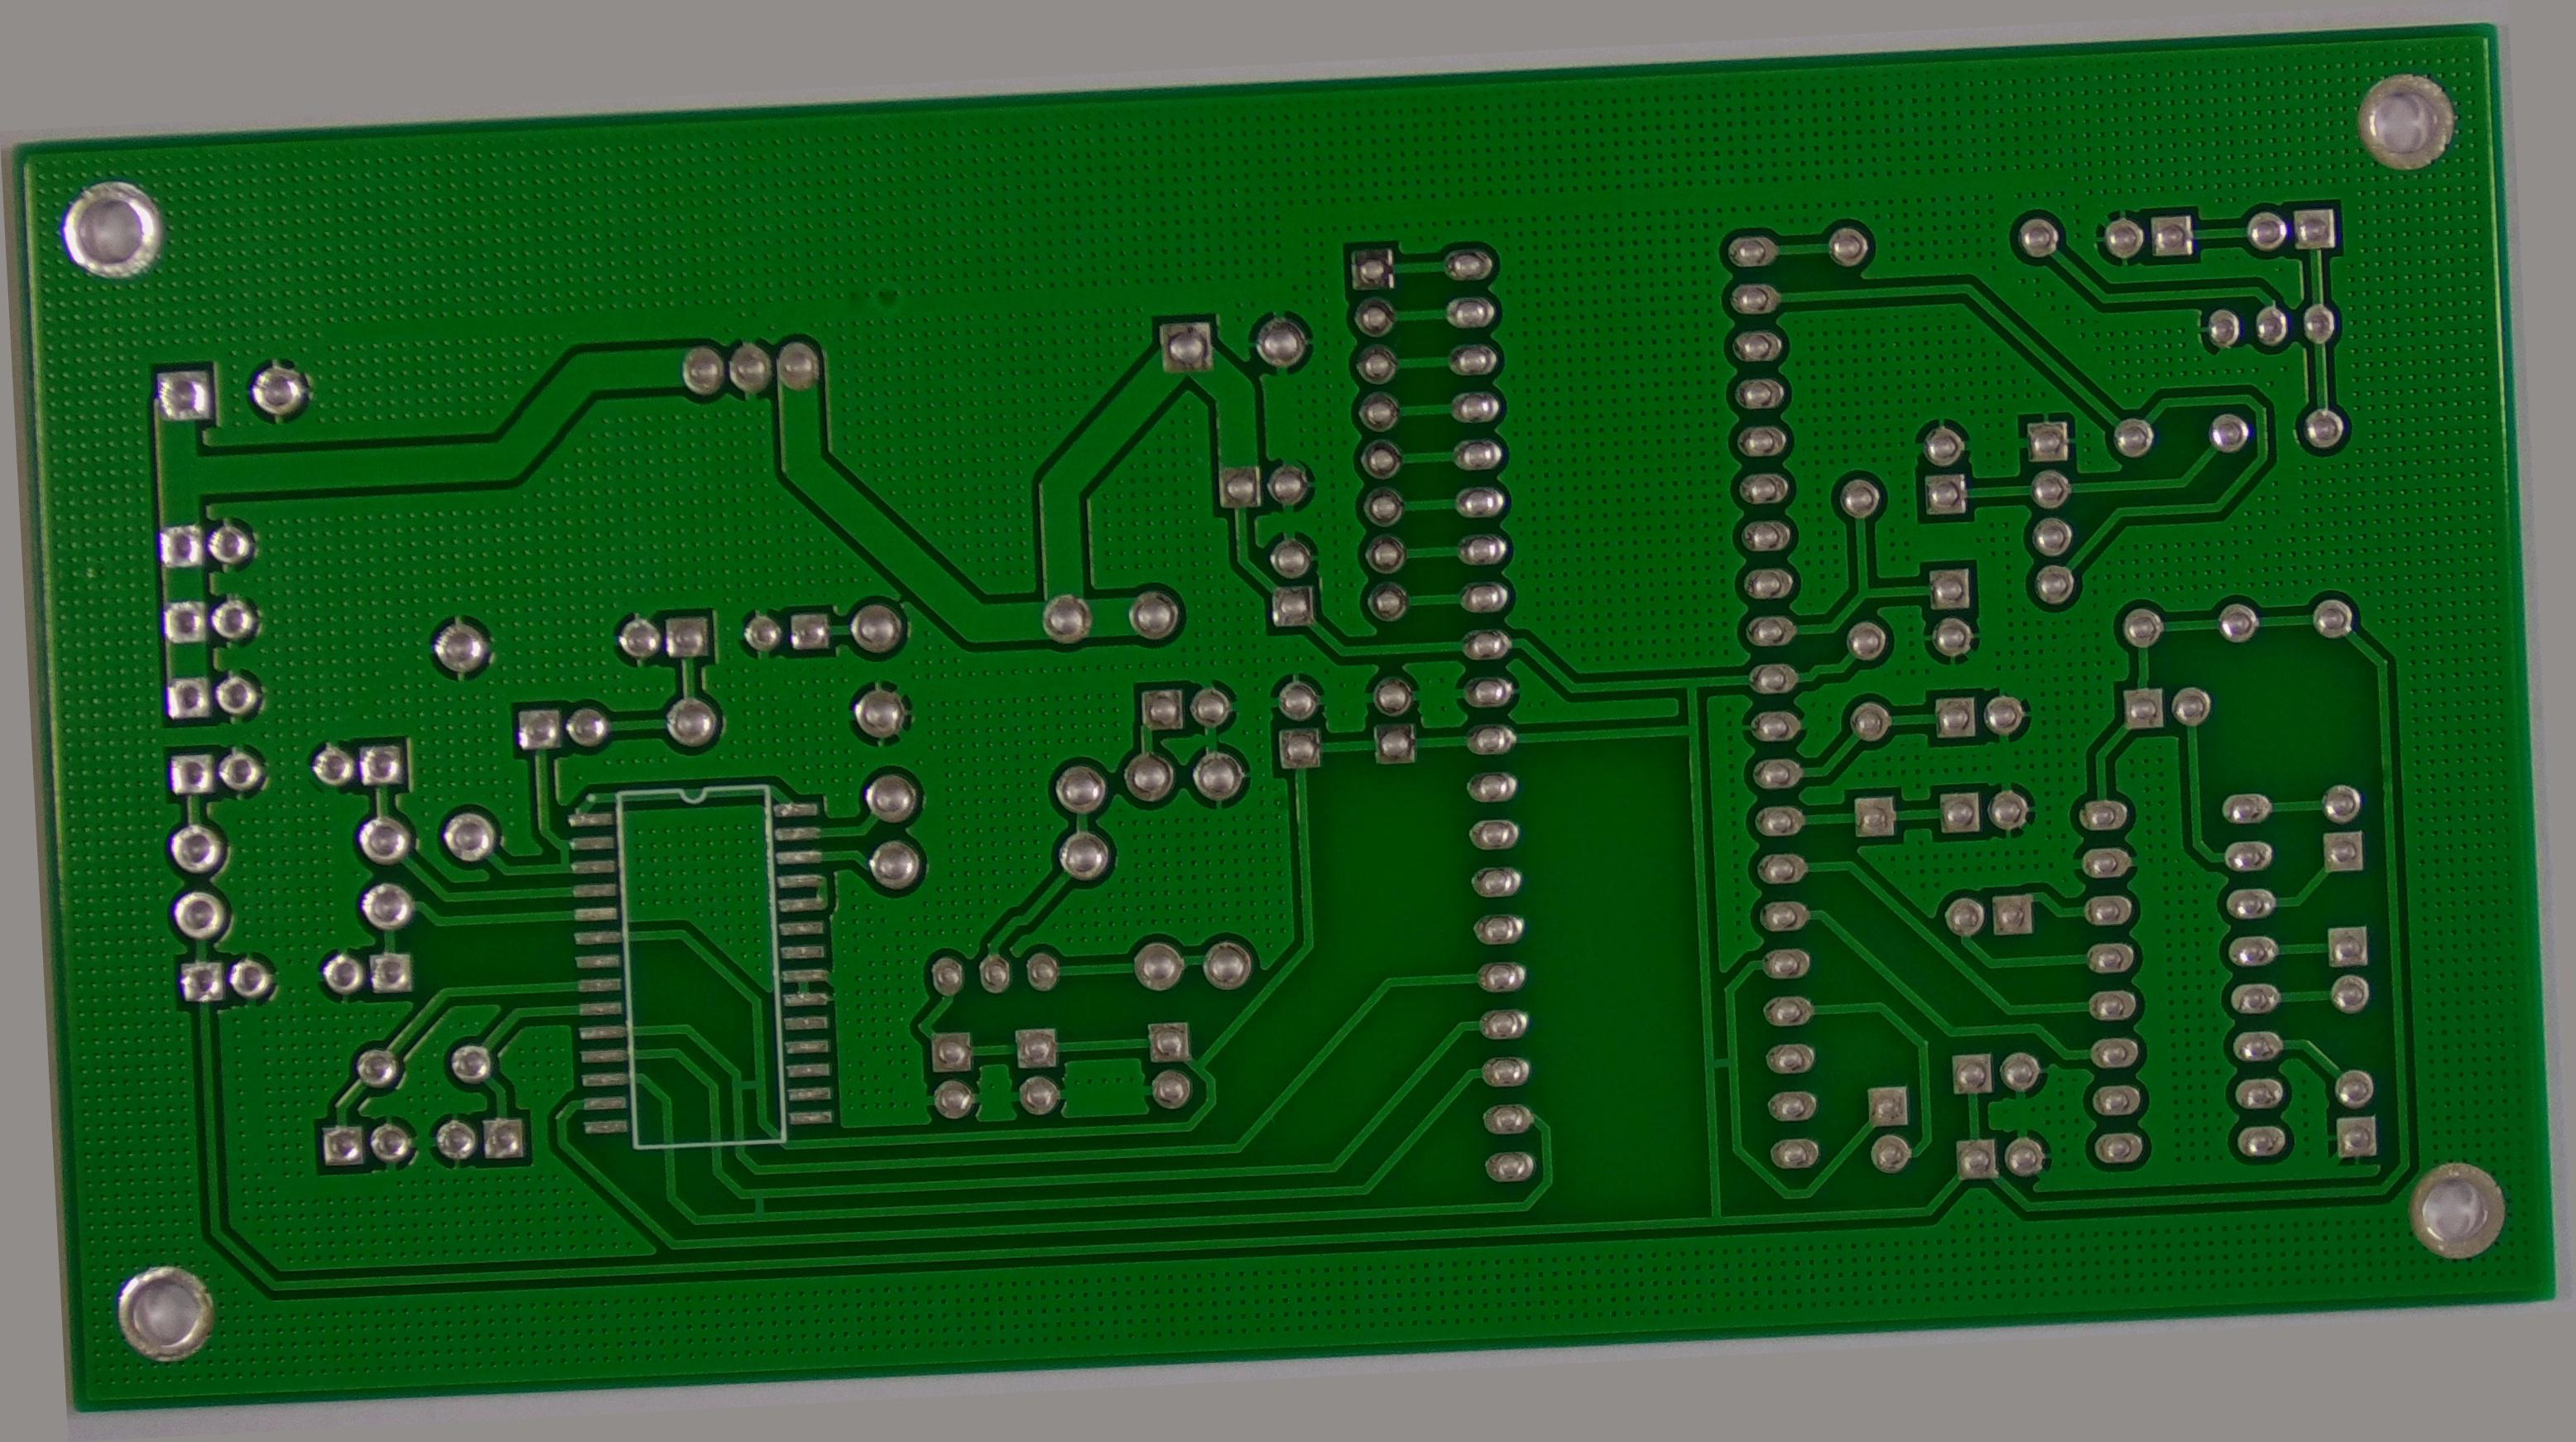short: (1693, 1037, 1755, 1088), (715, 1056, 771, 1108), (731, 1182, 782, 1230), (550, 837, 579, 869)
